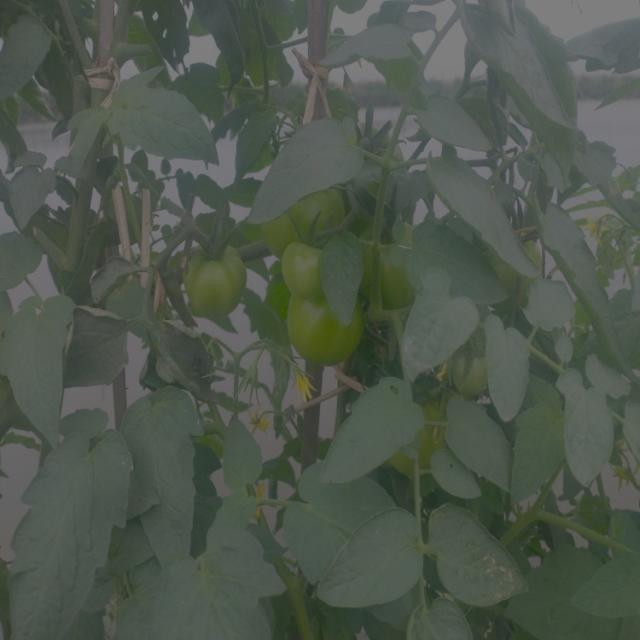tomato: (261, 170, 349, 245), (285, 289, 367, 368), (180, 231, 246, 313), (364, 208, 418, 300), (401, 382, 452, 469), (278, 235, 339, 297), (492, 224, 546, 288), (456, 348, 498, 393)
